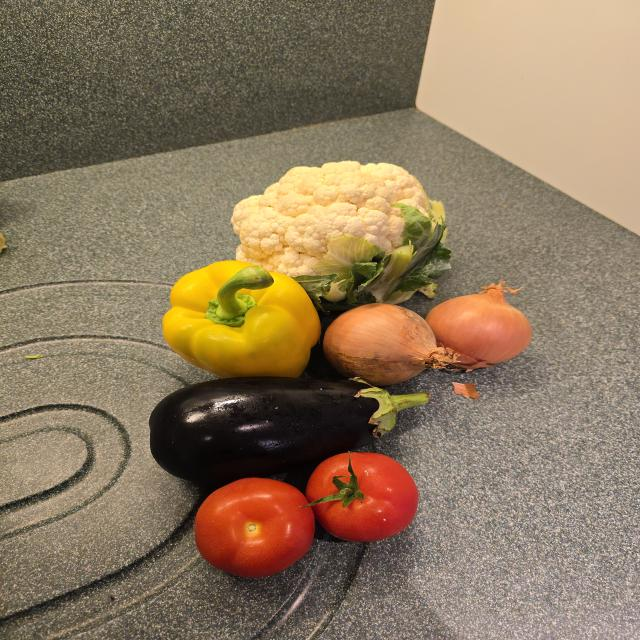Bell Pepper: (163, 261, 320, 378)
Cauliflower: (232, 161, 451, 304)
Eggplant: (149, 377, 429, 480)
Onion: (323, 304, 438, 386), (426, 281, 531, 364)
Tomato: (195, 478, 314, 578), (305, 452, 418, 541)
